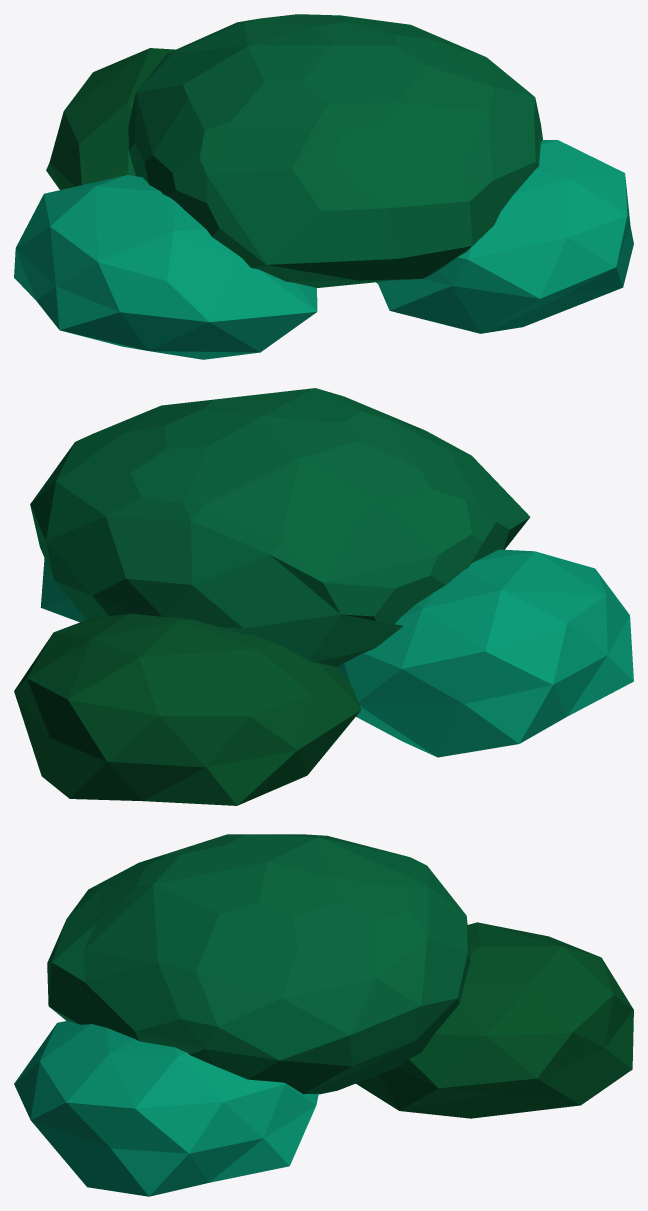
The picture shows the model from 3 angles, top to bottom: view 1: azimuth 30°, elevation 25°; view 2: azimuth 150°, elevation 25°; view 3: azimuth 270°, elevation 25°; orthographic projection. The views are drawn at different scales.
Parts seen in each view (by area): view 1: Icosphere.083, Icosphere.084, Icosphere.086, Icosphere.085; view 2: Icosphere.083, Icosphere.085, Icosphere.084, Icosphere.086; view 3: Icosphere.083, Icosphere.086, Icosphere.085.
Boxes of the visible parts, bbox=[...] form: Icosphere.083: bbox=[128, 14, 542, 287]; Icosphere.084: bbox=[14, 175, 317, 359]; Icosphere.086: bbox=[376, 140, 633, 333]; Icosphere.085: bbox=[46, 48, 175, 189]; Icosphere.083: bbox=[30, 388, 530, 667]; Icosphere.085: bbox=[14, 613, 361, 805]; Icosphere.084: bbox=[338, 549, 633, 757]; Icosphere.086: bbox=[40, 558, 86, 622]; Icosphere.083: bbox=[47, 834, 470, 1094]; Icosphere.086: bbox=[14, 1021, 318, 1196]; Icosphere.085: bbox=[356, 922, 633, 1118].
Bounding box in the file's own units: 176 × 76.79 × 172.
